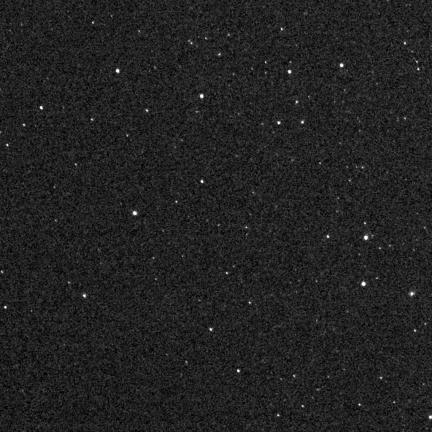blob: (200, 94, 205, 99), (116, 69, 120, 74), (362, 281, 366, 286), (364, 235, 368, 240), (288, 70, 292, 74), (133, 211, 137, 215), (237, 369, 241, 373), (83, 294, 86, 298), (340, 63, 343, 67), (40, 106, 43, 110), (210, 328, 213, 331), (278, 122, 281, 125), (201, 180, 204, 183)
